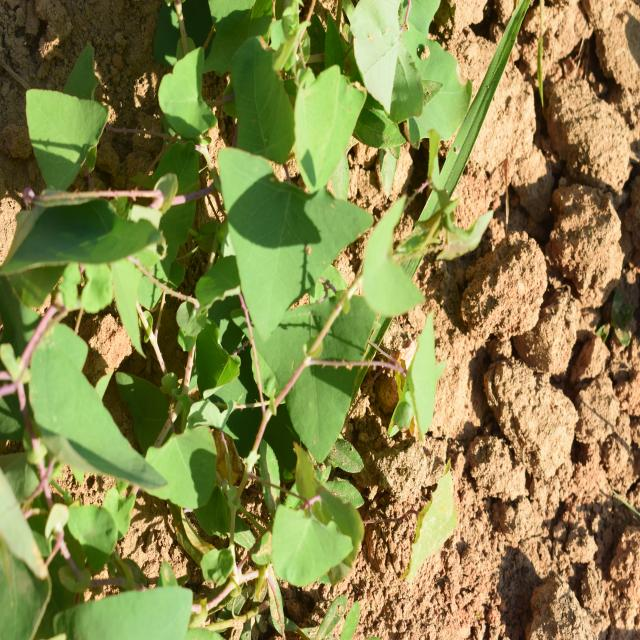Asiatic_Smartweed: (190, 66, 413, 356), (20, 310, 224, 520), (232, 444, 463, 595)
